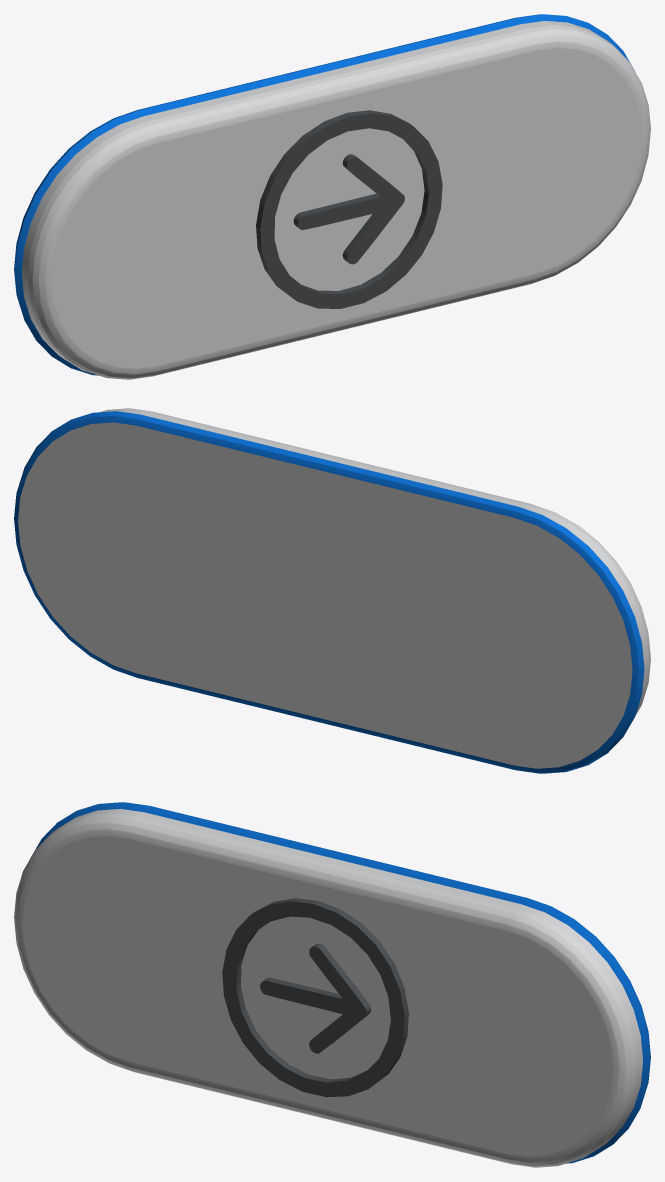
Rendered from push-button-979dc6.glb.
3 renders of one model, top to bottom at view 1: azimuth 30°, elevation 25°; view 2: azimuth 150°, elevation 25°; view 3: azimuth 330°, elevation 25°, orthographic.
Parts seen in each view (by area): view 1: button; view 2: button; view 3: button.
Part boxes in pixels (x1,y1,x2,y2): button: [14, 14, 650, 379]; button: [14, 408, 650, 773]; button: [14, 802, 650, 1167].
Size of the model in its own units: 0.1 by 0.04 by 0.0072.
